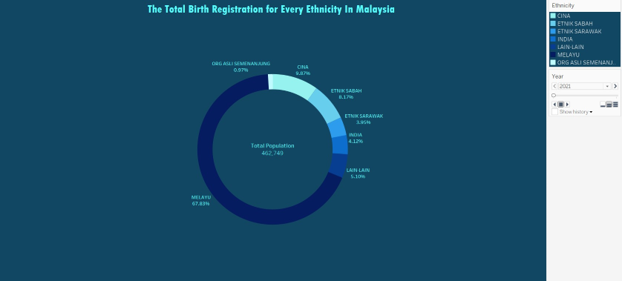

The page's visual inventory and layout, read from the dashboard file:
{"tool":"tableau","page":{"name":"Dashboard 3","canvas":[1000,1000],"units":"permille","ordinal":1},"visuals":[{"type":"worksheet","title":"Viz 3","mark":"Bar","cols":["JUMLAH","JUMLAH"],"box":[5.8,12.9,449.1,974.1]},{"type":"worksheet","title":"Viz 5","mark":"Pie","rows":["Calculation_1543608807514275842","Calculation_1543608807514275842"],"box":[454.9,12.9,449.2,487.1]},{"type":"currpage","title":"Viz 3","box":[906.8,18.8,84.8,129.3]},{"type":"worksheet","title":"Back","mark":"Shape","rows":["Calculation_2198882554340155392"],"box":[906.8,148.1,84.8,833.1]},{"type":"currpage","title":"Viz 4","box":[800.2,459.5,88.7,31.7]},{"type":"worksheet","title":"Viz 4","mark":"Pie","rows":["Calculation_1543608807514275842","Calculation_1543608807514275842"],"box":[454.9,500,449.2,487.1]},{"type":"legend","title":"Viz 4","param":"[federated.0twetkc0nzkf6e13uvwv41bh6l6s].[none:KETURUNAN:nk]","box":[464.5,586.4,125.5,198.6]}]}

Visuals, with their boxes on the dashboard's canvas, which has no fixed pixel size, in thousandths of its width and height (x1, y1, x2, y2). These are canvas units, not pixel positions in the 622x281 screenshot, which may show the page scaled, cropped or inside an application window:
"Viz 3" worksheet (Bar marks): box=[6, 13, 455, 987]
"Viz 5" worksheet (Pie marks): box=[455, 13, 904, 500]
"Viz 3" currpage: box=[907, 19, 992, 148]
"Back" worksheet (Shape marks): box=[907, 148, 992, 981]
"Viz 4" currpage: box=[800, 460, 889, 491]
"Viz 4" worksheet (Pie marks): box=[455, 500, 904, 987]
"Viz 4" legend: box=[464, 586, 590, 785]
